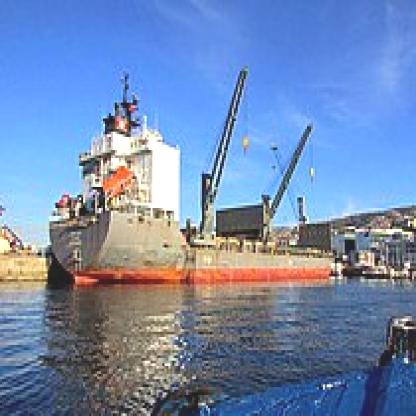Tanker: (52, 66, 352, 289)
